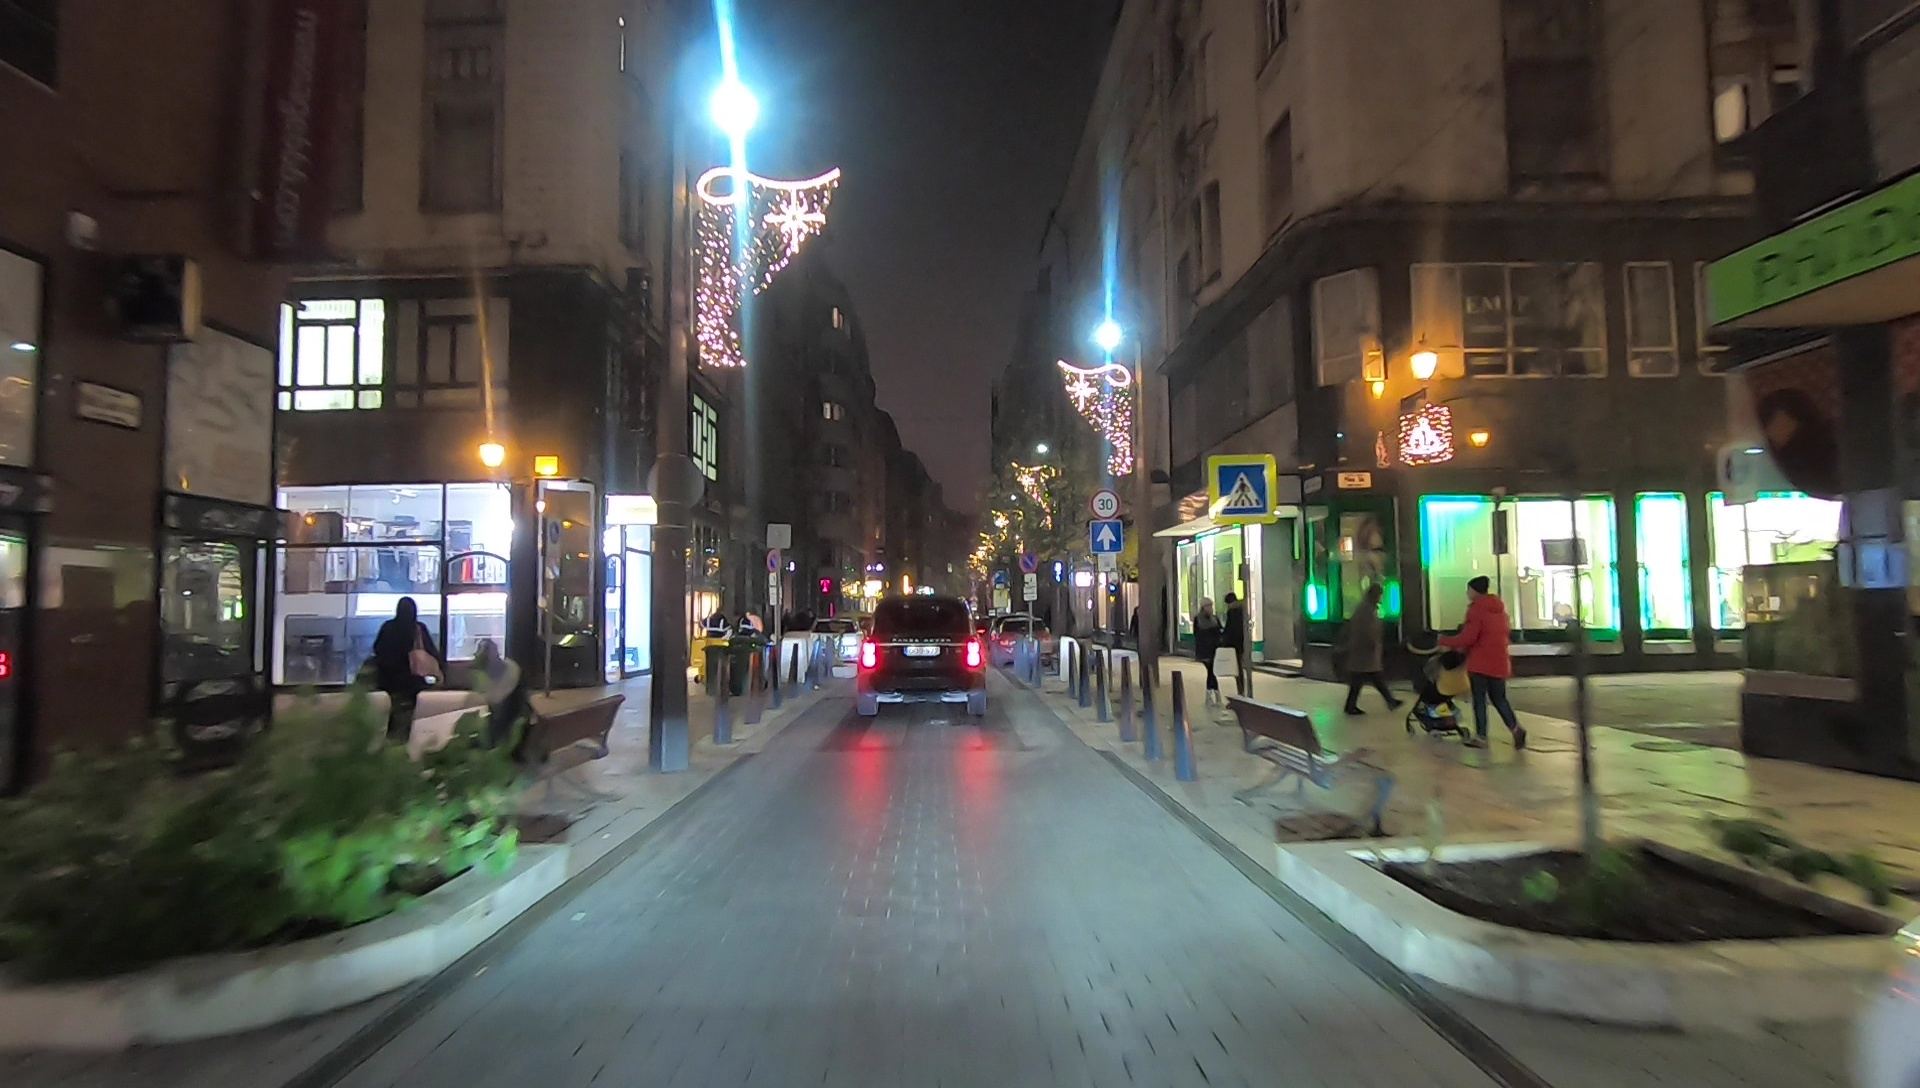person: (1460, 573, 1530, 754), (376, 599, 439, 760), (1339, 582, 1406, 719), (1219, 586, 1260, 697), (1189, 600, 1221, 697)
